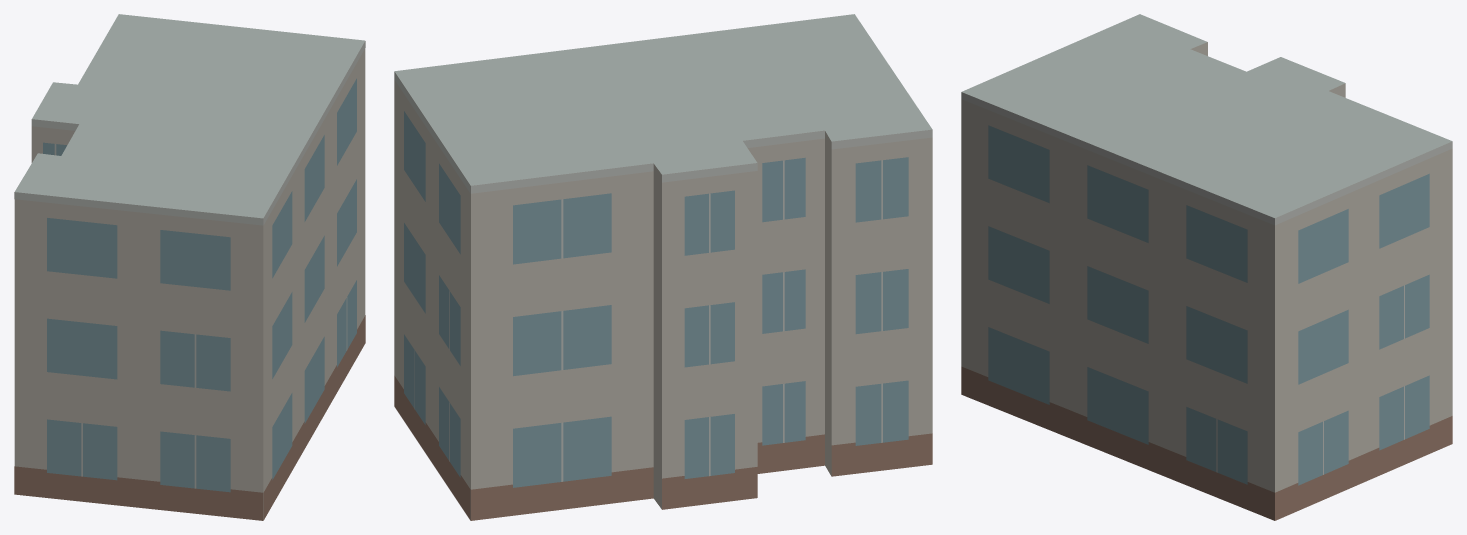
File: survey-upis-32536768.glb
3 views of the same model, side by side, from view 1: azimuth 30°, elevation 25°; view 2: azimuth 150°, elevation 25°; view 3: azimuth 270°, elevation 25° (orthographic). The views are drawn at different scales.
Visible parts, largest first — view 1: survey-upis-32536768.tmp; view 2: survey-upis-32536768.tmp; view 3: survey-upis-32536768.tmp.
Boxes of the visible parts, x1,y1,x2,y2 form: survey-upis-32536768.tmp: (14, 14, 365, 520); survey-upis-32536768.tmp: (394, 14, 932, 520); survey-upis-32536768.tmp: (961, 14, 1452, 520).
Size of the model in its own units: 14.92 by 10.3 by 15.17.
